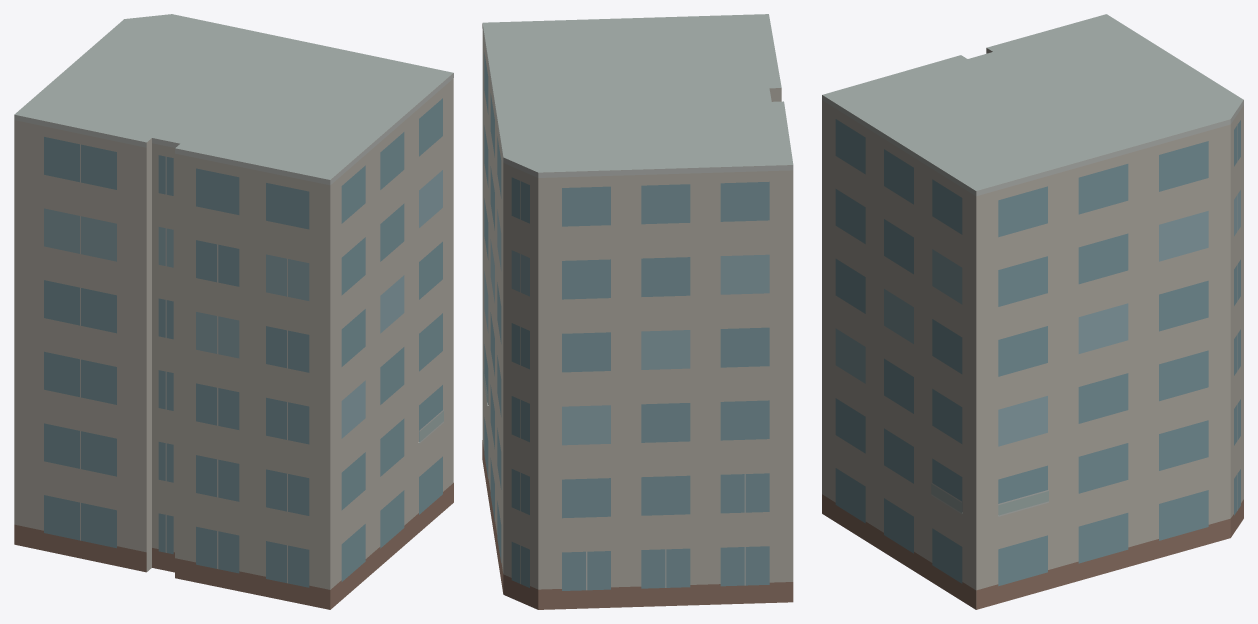
The model's file is survey-upis-32971461.glb.
3 renders of one model, left to right at view 1: azimuth 30°, elevation 25°; view 2: azimuth 150°, elevation 25°; view 3: azimuth 270°, elevation 25°, orthographic. The views are drawn at different scales.
Visible parts, largest first — view 1: survey-upis-32971461.tmp; view 2: survey-upis-32971461.tmp; view 3: survey-upis-32971461.tmp.
Part boxes in pixels (left/top/right/bottom): survey-upis-32971461.tmp: left=14, top=14, right=453, bottom=609; survey-upis-32971461.tmp: left=482, top=14, right=793, bottom=609; survey-upis-32971461.tmp: left=822, top=14, right=1243, bottom=609.
Bounding box in the file's own units: 17.79 × 19.6 × 17.9.
